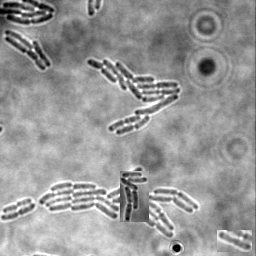Dividing: (1, 204, 37, 222), (3, 199, 33, 215)
Microcolony: (40, 167, 199, 238), (87, 59, 181, 136), (5, 30, 52, 72), (120, 171, 149, 222), (1, 1, 56, 26)
Rod: (217, 230, 252, 252)
